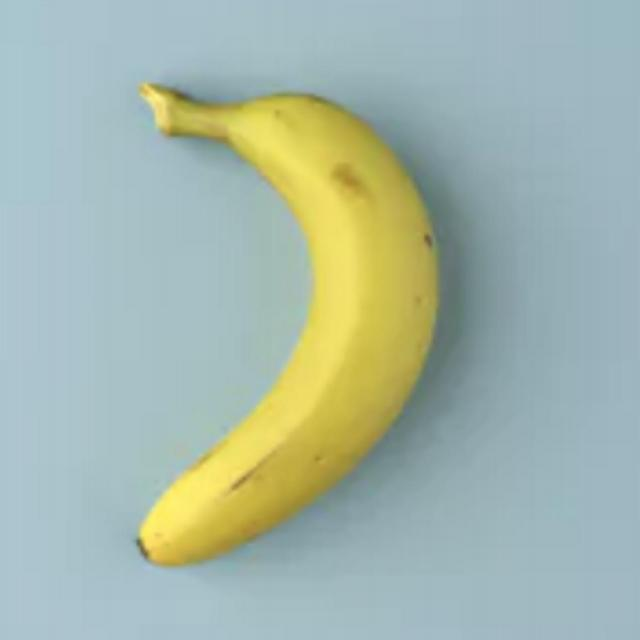banana: (9, 0, 637, 638)
